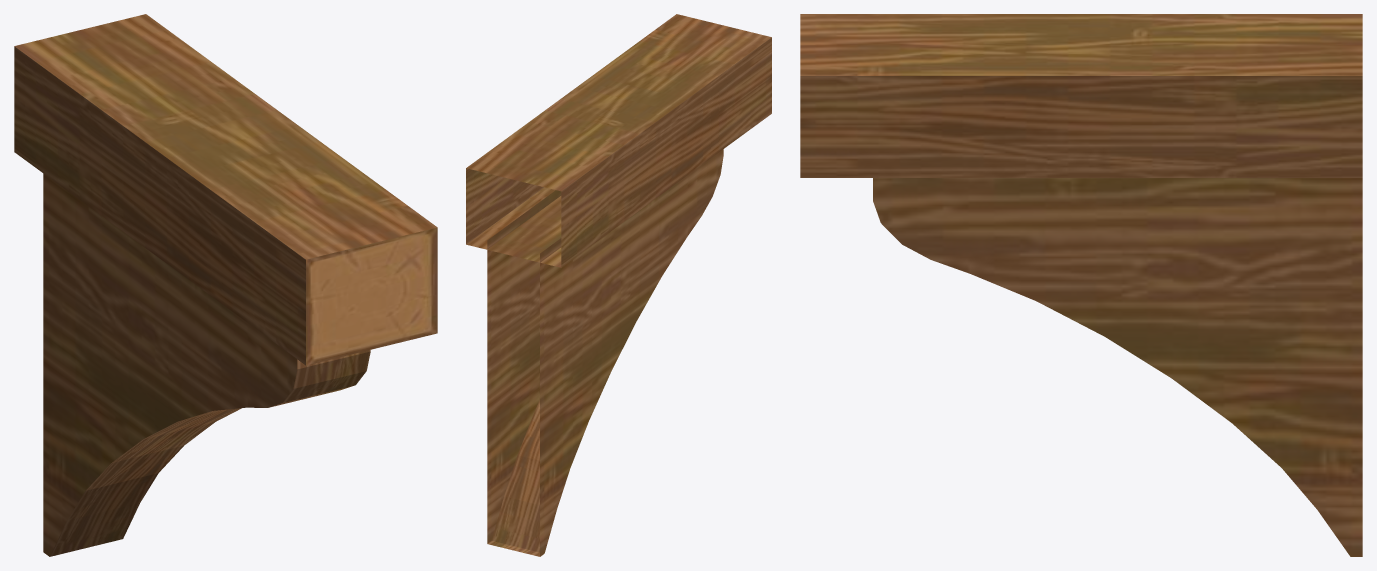
The model's file is roof-qm-roofsupport2.glb.
3 renders of one model, left to right at view 1: azimuth 30°, elevation 25°; view 2: azimuth 150°, elevation 25°; view 3: azimuth 270°, elevation 25°, orthographic. The views are drawn at different scales.
Parts seen in each view (by area): view 1: Cube_013; view 2: Cube_013; view 3: Cube_013.
Part boxes in pixels (x1,y1,x2,y2): Cube_013: (14,14,437,556); Cube_013: (466,14,771,556); Cube_013: (800,14,1362,556).
Size of the model in its own units: 0.1997 by 0.7429 by 0.7651.
Materials: 1 (1 with a texture image).
